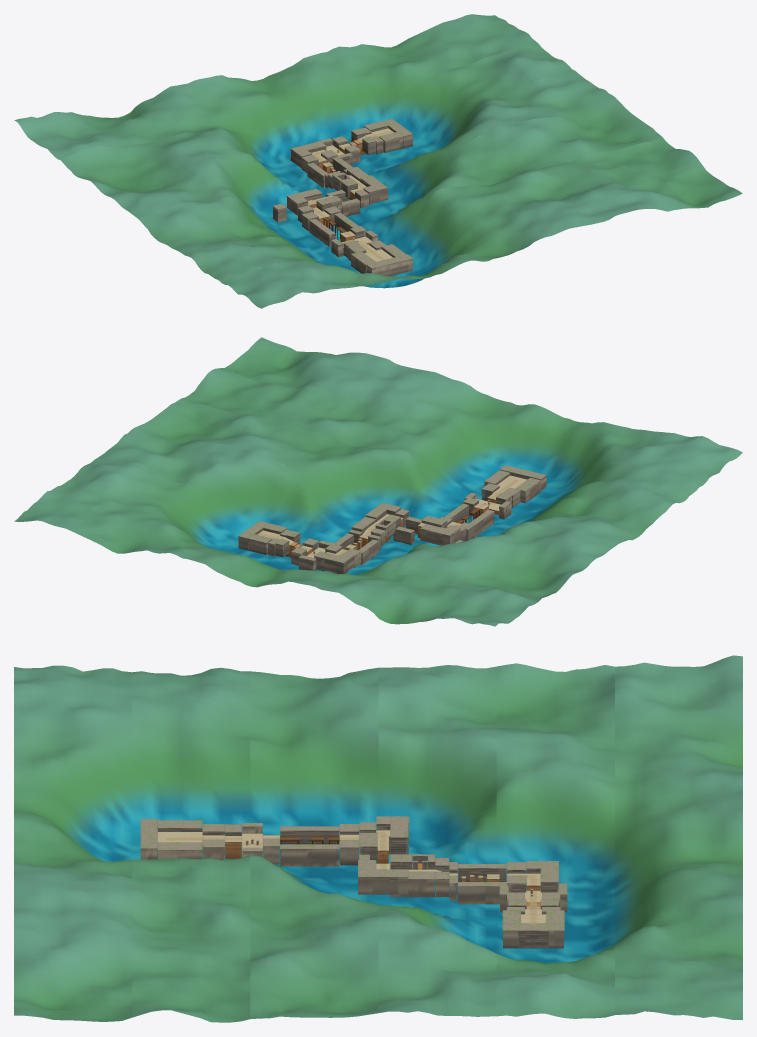
Rendered from sunny_shores_terrain.glb.
3 renders of one model, top to bottom at view 1: azimuth 30°, elevation 25°; view 2: azimuth 150°, elevation 25°; view 3: azimuth 270°, elevation 25°, orthographic. The views are drawn at different scales.
Visible parts, largest first — view 1: backdrop_5, backdrop_4, backdrop_2, backdrop_1, backdrop_0, backdrop_3, terrain_I, terrain_A, terrain_D, terrain_H, terrain_E, terrain_G (+2 smaller); view 2: backdrop_0, backdrop_1, backdrop_3, backdrop_2, backdrop_5, backdrop_4, terrain_I, terrain_H, terrain_A, terrain_D, terrain_E, terrain_G (+3 smaller); view 3: backdrop_5, backdrop_0, backdrop_2, backdrop_1, backdrop_4, backdrop_3, terrain_I, terrain_H, terrain_D, terrain_G, terrain_A, terrain_E (+3 smaller).
Boxes of the visible parts, <box> form: backdrop_5: <box>14,14,538,158</box>; backdrop_4: <box>58,44,578,190</box>; backdrop_2: <box>138,101,662,259</box>; backdrop_1: <box>182,137,702,286</box>; backdrop_0: <box>222,165,742,308</box>; backdrop_3: <box>98,74,618,226</box>; terrain_I: <box>290,118,412,168</box>; terrain_A: <box>351,244,412,276</box>; terrain_D: <box>302,206,358,246</box>; terrain_H: <box>301,150,361,189</box>; terrain_E: <box>273,188,337,222</box>; terrain_G: <box>332,170,388,204</box>; backdrop_0: <box>222,337,742,489</box>; backdrop_1: <box>182,368,702,520</box>; backdrop_3: <box>98,426,618,574</box>; backdrop_2: <box>138,398,662,543</box>; backdrop_5: <box>14,486,538,626</box>; backdrop_4: <box>58,458,577,601</box>; terrain_I: <box>238,521,354,573</box>; terrain_H: <box>325,523,385,567</box>; terrain_A: <box>484,465,546,503</box>; terrain_D: <box>440,503,494,540</box>; terrain_E: <box>420,517,466,545</box>; terrain_G: <box>356,502,401,542</box>; backdrop_5: <box>615,655,742,1020</box>; backdrop_0: <box>14,665,132,1021</box>; backdrop_2: <box>250,667,378,1018</box>; backdrop_1: <box>132,667,250,1022</box>; backdrop_4: <box>496,663,614,1018</box>; backdrop_3: <box>378,665,496,1016</box>; terrain_I: <box>499,861,567,948</box>; terrain_H: <box>435,858,526,904</box>; terrain_D: <box>280,824,359,866</box>; terrain_G: <box>358,854,435,897</box>; terrain_A: <box>140,819,202,859</box>; terrain_E: <box>359,816,409,863</box>.
Size of the model in its own units: 581 by 64.18 by 518.
